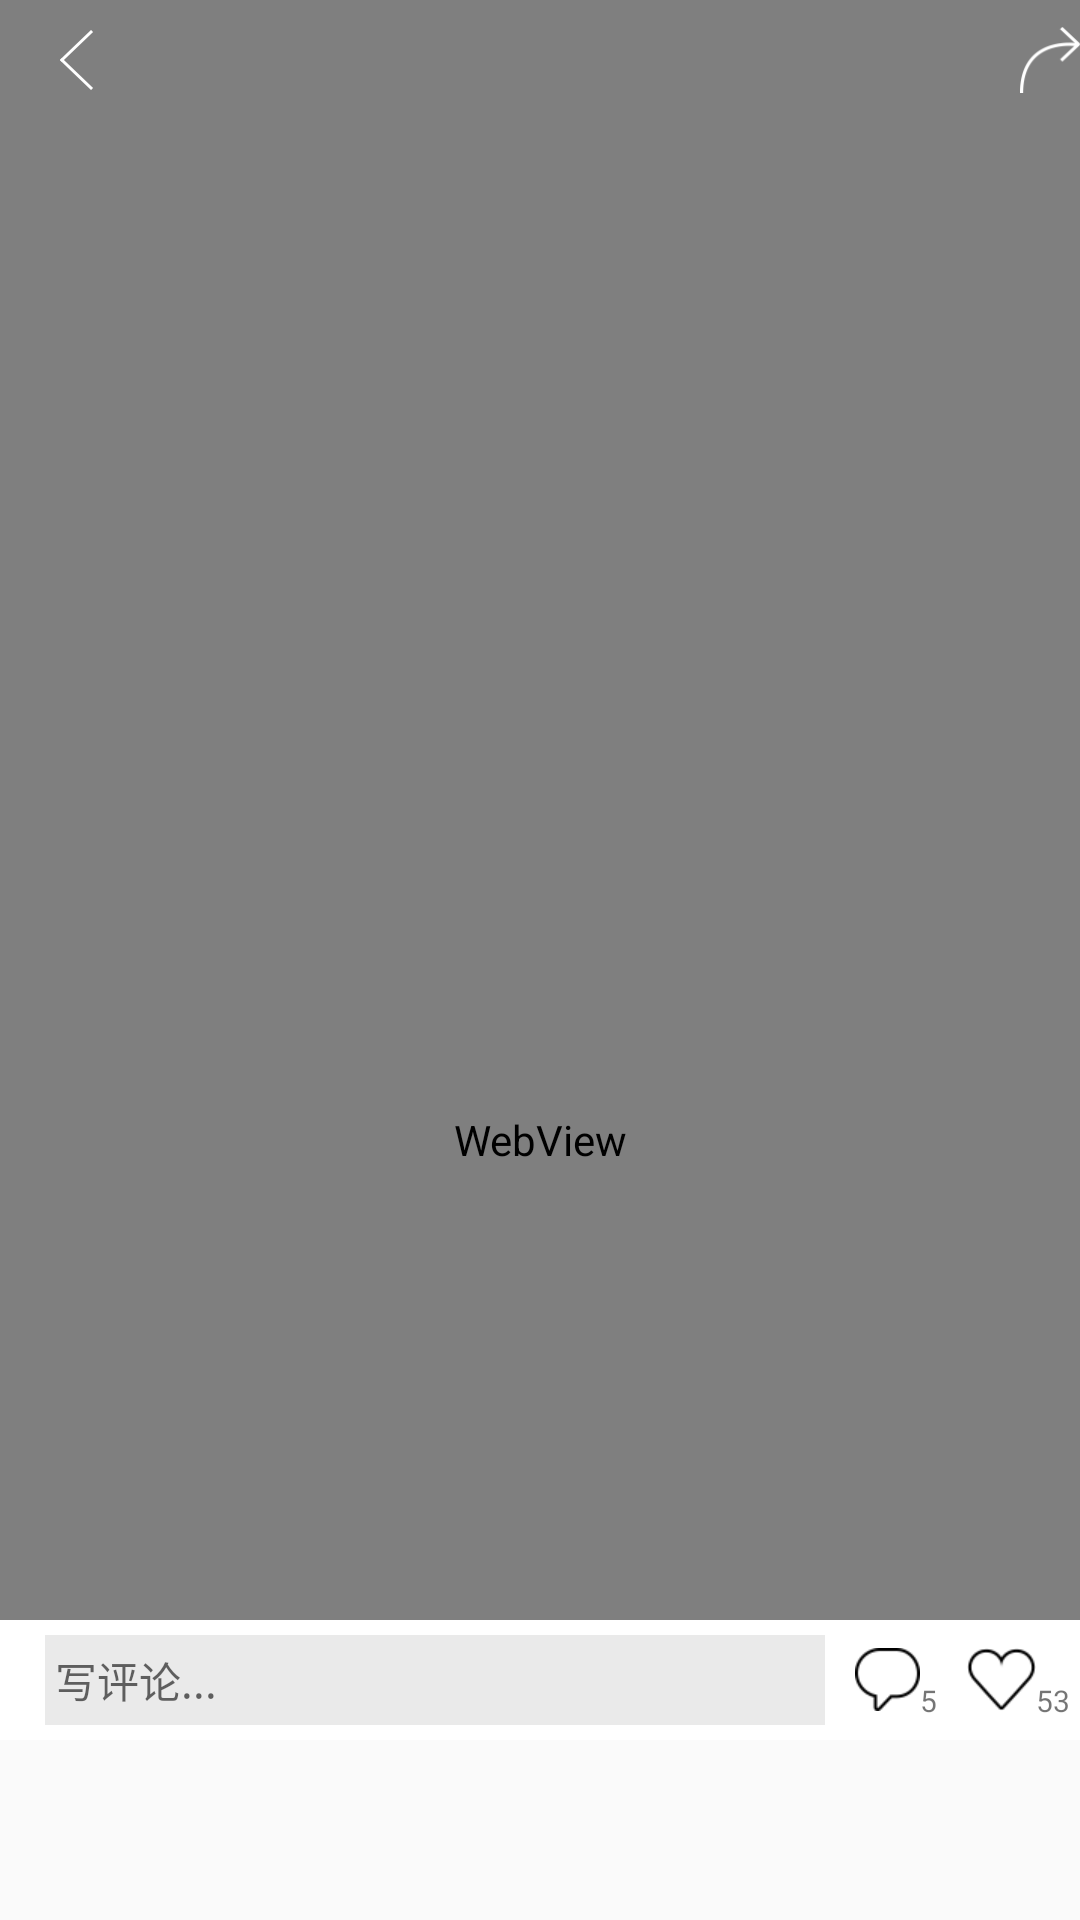

Named icons in this screenshot (1080×1920) and their bounding boxes, (x1, y1, x2, y2):
back: (60, 30, 93, 90)
comment: (855, 1648, 920, 1711)
content share: (1020, 27, 1080, 93)
love: (968, 1649, 1036, 1710)
